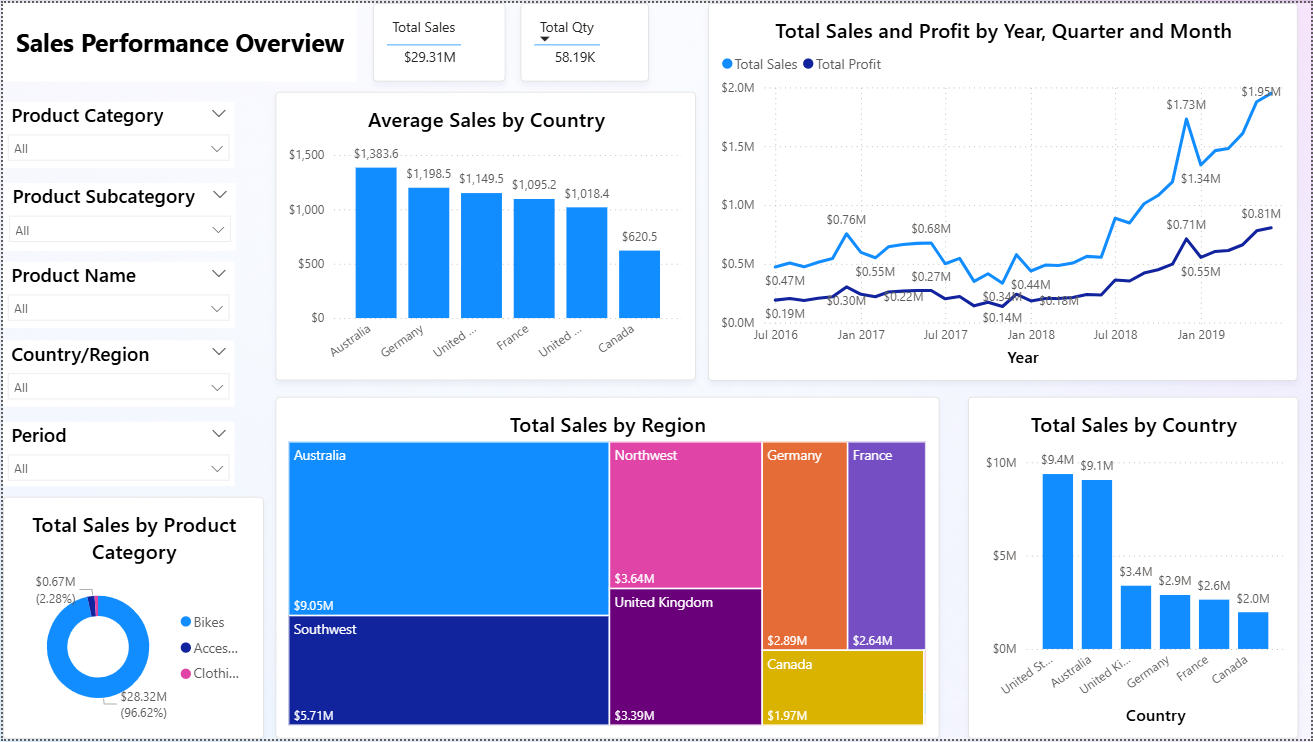

What the dashboard file says about the page in this screenshot:
{"tool":"powerbi","page":{"name":" Sales Performance Overview","canvas":[1280,720],"ordinal":0},"visuals":[{"type":"columnChart","title":"Total Sales ($) by Country","fields":{"Y":["public master_sales.Total Sales"],"Category":["public master_sales.country"],"Series":["public master_sales.region"]},"box":[943.6,385.2,323.2,334.7],"z":0},{"type":"treemap","title":"Total Sales ($) by Region","fields":{"Group":["public master_sales.region"],"Values":["public master_sales.Total Sales"]},"box":[266.9,385.2,649.2,334.7],"z":2000},{"type":"tableEx","fields":{"Values":["public master_sales.Total Sales"]},"box":[362.5,0,128.8,77.5],"z":3000},{"type":"tableEx","fields":{"Values":["public master_sales.Total Qty"]},"box":[505.7,0,125.7,77.1],"z":4000},{"type":"slicer","title":"Category","fields":{"Values":["public master_sales.category"]},"box":[0,96.2,226.2,65],"z":5000},{"type":"lineChart","title":"Total Sales and Profit ($) by Year, Quarter and Month","fields":{"Category":["public master_sales.orderdate.Variation.Date Hierarchy.Year","public master_sales.orderdate.Variation.Date Hierarchy.Quarter","public master_sales.orderdate.Variation.Date Hierarchy.Month","public master_sales.orderdate.Variation.Date Hierarchy.Day"],"Y":["public master_sales.Total Sales","public master_sales.Total Profit"]},"box":[689.6,0,577.1,369.3],"z":6000},{"type":"textbox","box":[0,0,346.3,76.5],"z":7000},{"type":"donutChart","title":"Total Sales by Product Category","fields":{"Category":["public master_sales.category"],"Y":["public master_sales.Total Sales"]},"box":[266.9,96.7,414.1,272.7],"z":8000},{"type":"slicer","title":"Category","fields":{"Values":["public master_sales.country","public master_sales.region"]},"box":[0,330.4,226.5,64.9],"z":9000},{"type":"slicer","title":"Category","fields":{"Values":["public master_sales.productname"]},"box":[0,253.1,226.2,64.8],"z":10000},{"type":"slicer","title":"Category","fields":{"Values":["public master_sales.subcategory"]},"box":[1.2,176.1,226.2,66],"z":12000},{"type":"slicer","title":"Category","fields":{"Values":["public master_sales.orderdate.Variation.Date Hierarchy.Year","public master_sales.orderdate.Variation.Date Hierarchy.Quarter","public master_sales.orderdate.Variation.Date Hierarchy.Month","public master_sales.orderdate.Variation.Date Hierarchy.Day"]},"box":[0,409.7,226.5,63.5],"z":13000}]}

Visuals, with their boxes in screenshot pixels (x1, y1, x2, y2), scaled from the page's 1280x720 canvas onto the 1313x742 screenshot:
"Total Sales ($) by Country" columnChart: locate(968, 397, 1299, 741)
"Total Sales ($) by Region" treemap: locate(274, 397, 940, 741)
tableEx - public master_sales.Total Sales: locate(372, 0, 504, 80)
tableEx - public master_sales.Total Qty: locate(519, 0, 648, 79)
"Category" slicer: locate(0, 99, 232, 166)
"Total Sales and Profit ($) by Year, Quarter and Month" lineChart: locate(707, 0, 1299, 381)
textbox: locate(0, 0, 355, 79)
"Total Sales by Product Category" donutChart: locate(274, 100, 699, 381)
"Category" slicer: locate(0, 340, 232, 407)
"Category" slicer: locate(0, 261, 232, 328)
"Category" slicer: locate(1, 181, 233, 249)
"Category" slicer: locate(0, 422, 232, 488)
